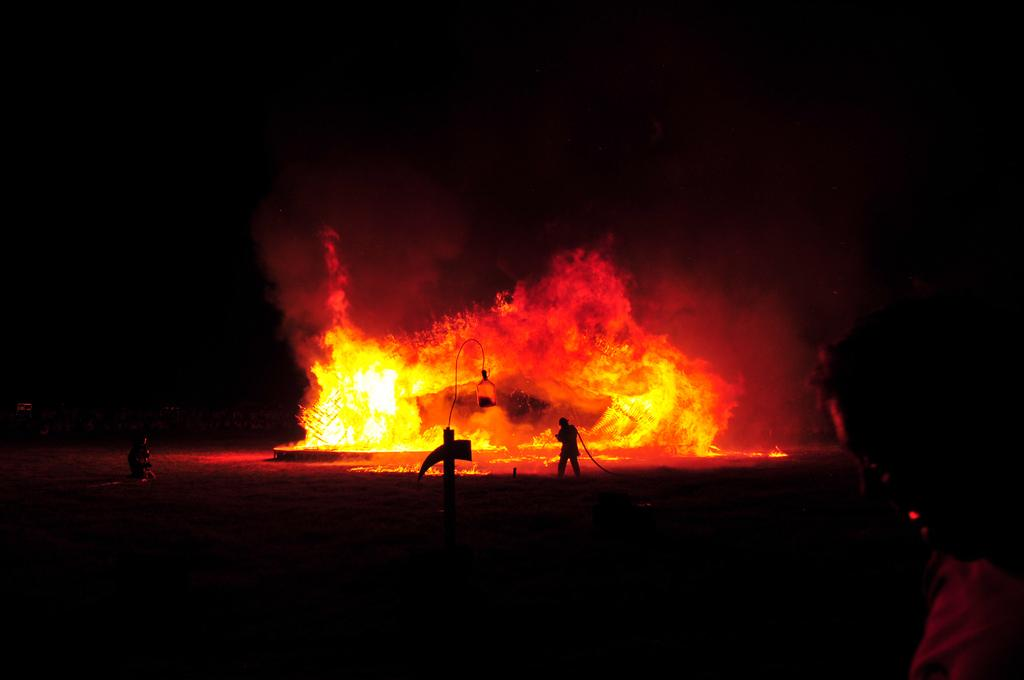fire: (590, 352, 710, 452), (318, 355, 408, 455)
